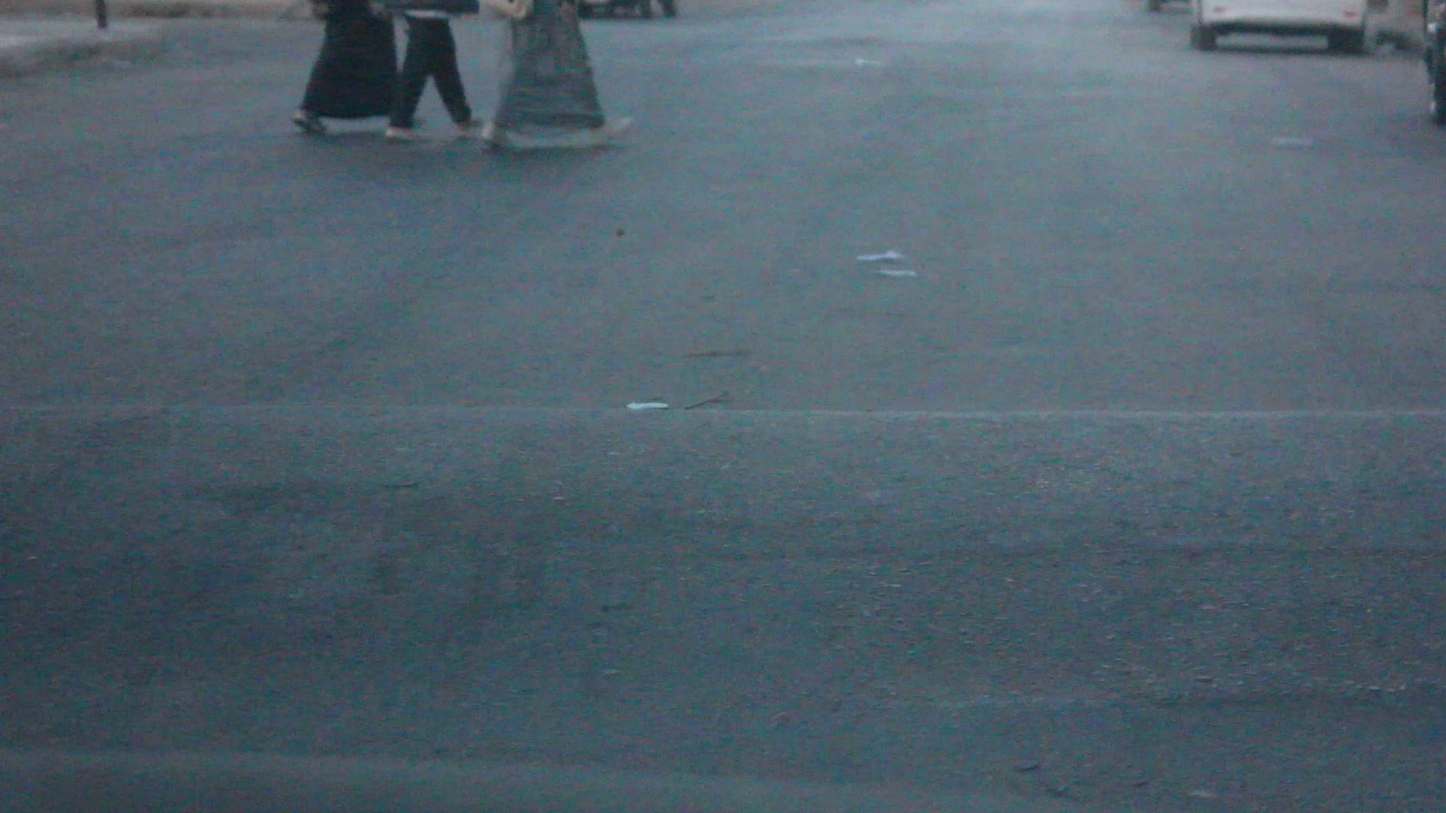Bump: (0, 410, 1445, 730)
